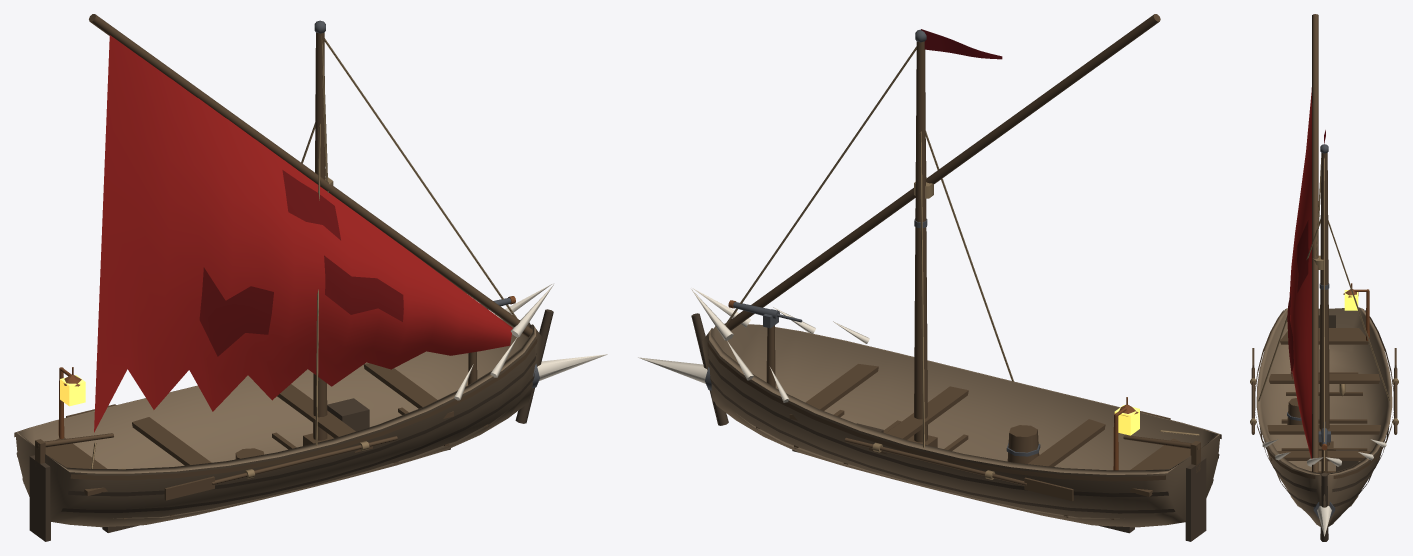
Rendered from raider-skiff.glb.
The picture shows the model from 3 angles, left to right: view 1: azimuth 30°, elevation 25°; view 2: azimuth 150°, elevation 25°; view 3: azimuth 270°, elevation 25°; orthographic projection. The views are drawn at different scales.
Visible parts, largest first — view 1: Mesh_Sail_Lateen, Mesh_Interior, Mesh_Hull, Mesh_LateenYard, Mesh_SailPatch1, Mesh_SailPatch0, Mesh_GunwaleS, Mesh_MastPole, Mesh_SailPatch2, Mesh_Strake0S, Mesh_Rudder, Mesh_Strake1S (+8 smaller); view 2: Mesh_Interior, Mesh_Hull, Mesh_LateenYard, Mesh_MastPole, Mesh_GunwaleP, Mesh_Strake0P, Mesh_Rudder, Mesh_Strake1P, Mesh_Thwart1, Mesh_Thwart0, Mesh_Thwart2, Mesh_SternSeat (+7 smaller); view 3: Mesh_Interior, Mesh_Sail_Lateen, Mesh_LateenYard, Mesh_Hull, Mesh_MastPole, Mesh_Thwart1, Mesh_Thwart0, Mesh_SternSeat, Mesh_Thwart2, Mesh_Forestay, Mesh_SailPatch2, Mesh_ShroudP (+13 smaller).
Part boxes in pixels (<box>): Mesh_Sail_Lateen: <box>94,35,512,432</box>; Mesh_Interior: <box>15,320,535,518</box>; Mesh_Hull: <box>15,329,542,527</box>; Mesh_LateenYard: <box>89,14,536,337</box>; Mesh_SailPatch1: <box>199,267,273,356</box>; Mesh_SailPatch0: <box>324,255,403,321</box>; Mesh_GunwaleS: <box>70,338,537,480</box>; Mesh_MastPole: <box>313,32,327,440</box>; Mesh_SailPatch2: <box>282,170,340,240</box>; Mesh_Strake0S: <box>68,353,536,496</box>; Mesh_Rudder: <box>29,455,50,541</box>; Mesh_Strake1S: <box>61,371,535,512</box>; Mesh_Interior: <box>708,323,1219,518</box>; Mesh_Hull: <box>702,333,1220,527</box>; Mesh_LateenYard: <box>724,14,1160,330</box>; Mesh_MastPole: <box>914,41,927,442</box>; Mesh_GunwaleP: <box>707,335,1165,481</box>; Mesh_Strake0P: <box>708,354,1168,496</box>; Mesh_Rudder: <box>1185,456,1206,541</box>; Mesh_Strake1P: <box>710,376,1175,513</box>; Mesh_Thwart1: <box>869,386,968,454</box>; Mesh_Thwart0: <box>1023,419,1105,480</box>; Mesh_Thwart2: <box>789,364,878,420</box>; Mesh_SternSeat: <box>1129,438,1190,496</box>; Mesh_Interior: <box>1256,307,1392,509</box>; Mesh_Sail_Lateen: <box>1289,87,1311,458</box>; Mesh_LateenYard: <box>1312,14,1318,472</box>; Mesh_Hull: <box>1260,429,1388,526</box>; Mesh_MastPole: <box>1319,153,1329,446</box>; Mesh_Thwart1: <box>1261,425,1387,434</box>; Mesh_Thwart0: <box>1269,374,1380,383</box>; Mesh_SternSeat: <box>1280,328,1368,344</box>; Mesh_Thwart2: <box>1270,451,1378,460</box>; Mesh_Forestay: <box>1323,158,1324,470</box>; Mesh_SailPatch2: <box>1297,220,1308,292</box>; Mesh_ShroudP: <box>1328,220,1390,400</box>.
Size of the model in its own units: 10.5 by 9.23 by 3.28.
